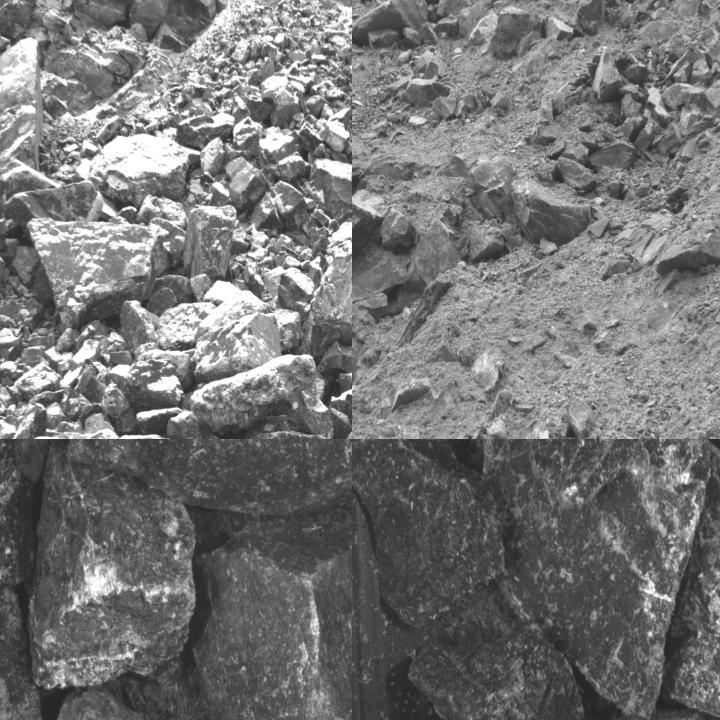stone: (481, 439, 711, 715), (29, 448, 195, 688), (193, 514, 351, 719), (352, 439, 503, 629), (62, 439, 351, 517), (406, 625, 583, 719), (666, 444, 719, 719), (30, 218, 165, 325), (189, 357, 333, 438), (191, 290, 282, 379), (94, 134, 197, 198), (4, 163, 101, 230), (300, 242, 351, 361), (0, 34, 42, 175), (510, 180, 594, 245), (0, 440, 35, 595), (185, 201, 236, 282), (352, 242, 409, 303), (354, 0, 430, 44), (248, 180, 310, 232), (122, 359, 184, 406), (157, 302, 218, 348), (490, 9, 545, 60), (352, 197, 390, 266), (259, 125, 304, 181), (173, 110, 234, 150), (313, 155, 351, 218), (229, 162, 270, 212), (372, 208, 418, 249), (121, 300, 156, 350), (587, 140, 637, 174), (592, 48, 622, 100), (276, 269, 314, 310), (466, 225, 505, 263), (661, 83, 710, 111), (10, 403, 47, 438), (557, 158, 594, 192), (320, 341, 351, 377), (619, 112, 650, 142), (201, 137, 223, 178), (367, 26, 404, 50), (658, 122, 682, 156), (578, 0, 607, 25), (704, 79, 719, 119), (635, 121, 655, 150), (420, 21, 438, 47), (435, 13, 458, 33), (402, 26, 421, 46)
